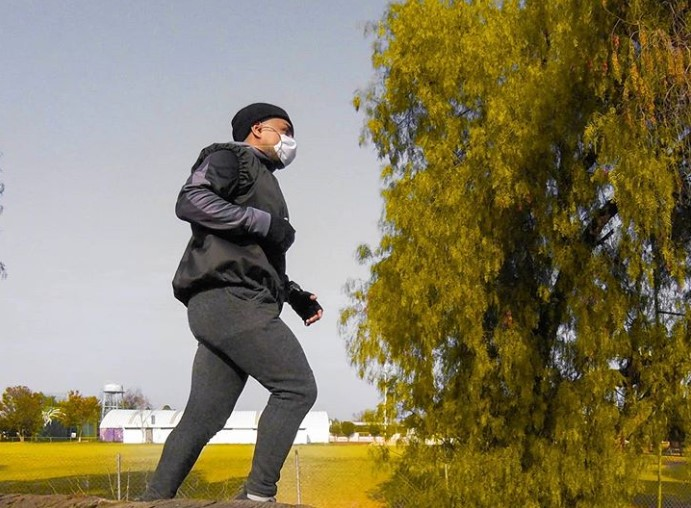face_with_mask: (237, 101, 299, 169)
